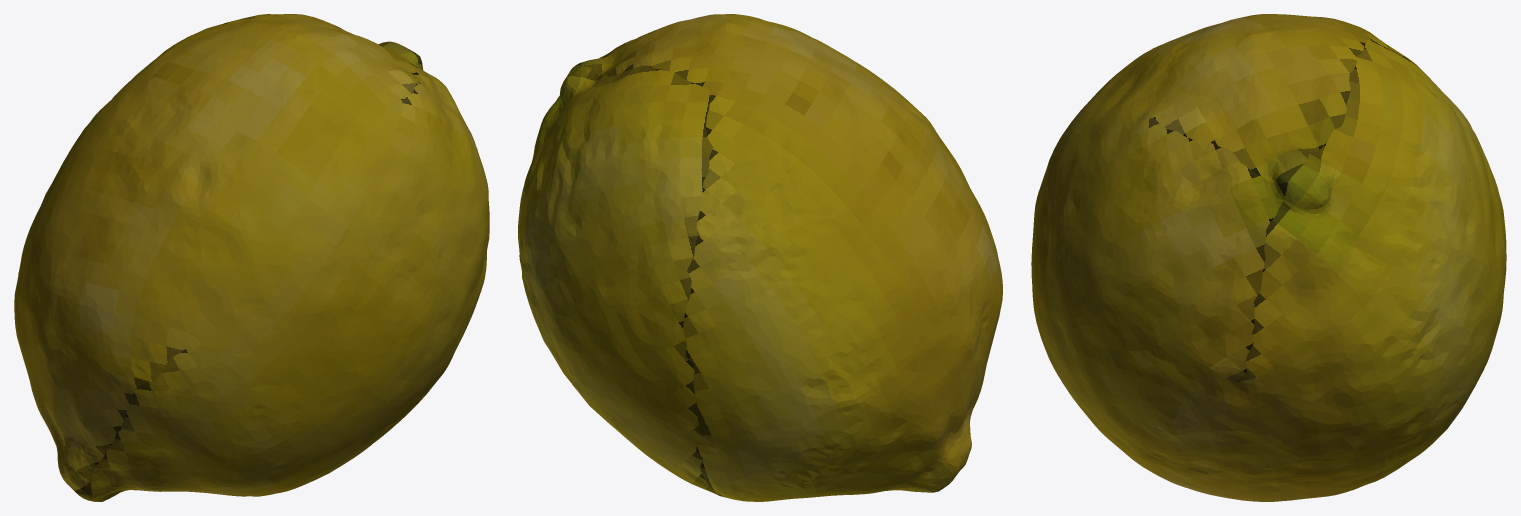
The model's file is 014_lemon.glb.
3 renders of one model, left to right at view 1: azimuth 30°, elevation 25°; view 2: azimuth 150°, elevation 25°; view 3: azimuth 270°, elevation 25°, orthographic. The views are drawn at different scales.
Parts seen in each view (by area): view 1: textured.obj; view 2: textured.obj; view 3: textured.obj.
Boxes of the visible parts, bbox=[...] form: textured.obj: bbox=[14, 14, 489, 501]; textured.obj: bbox=[518, 14, 1002, 501]; textured.obj: bbox=[1031, 14, 1506, 501].
Bounding box in the file's own units: 0.0606 × 0.0593 × 0.053.
1 material, 1 textured.
